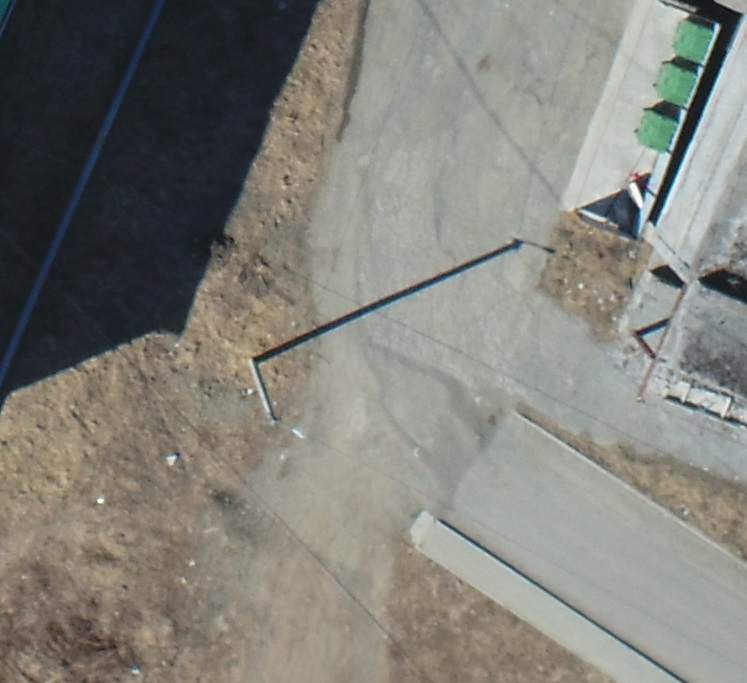opora: (244, 323, 317, 429)
